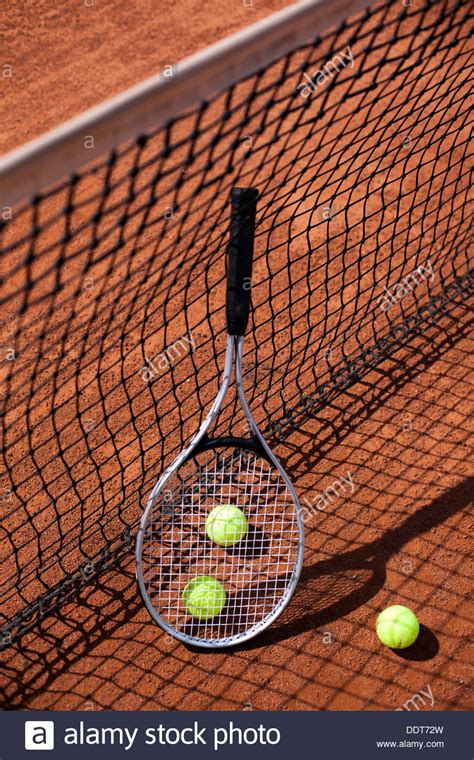tennis_ball: (375, 604, 420, 649), (205, 503, 247, 546), (182, 576, 225, 618)
